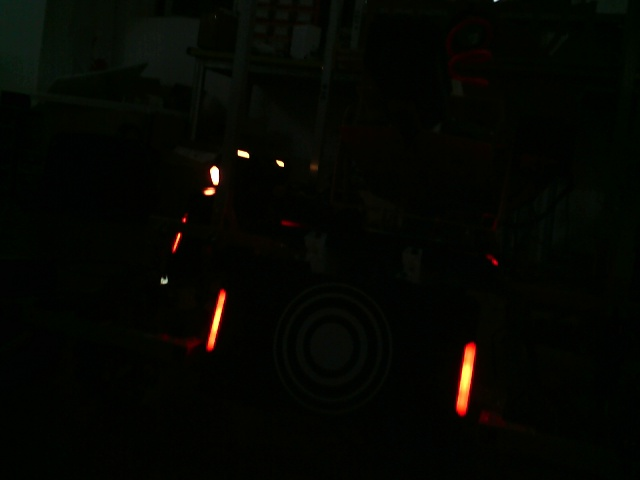lamp: (454, 341, 478, 418), (205, 288, 228, 352)
